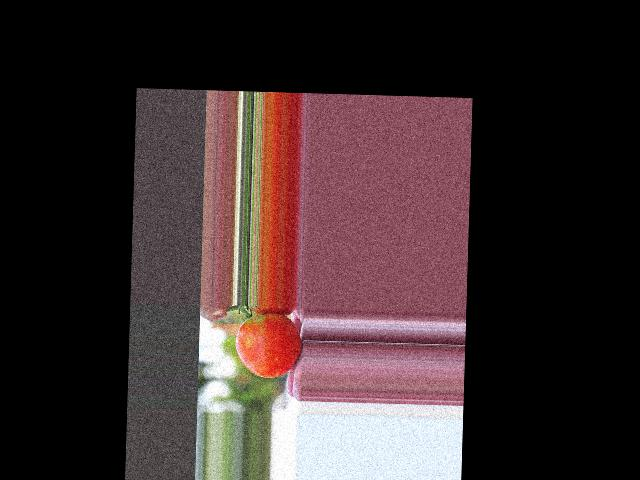tomato: (234, 312, 301, 378)
